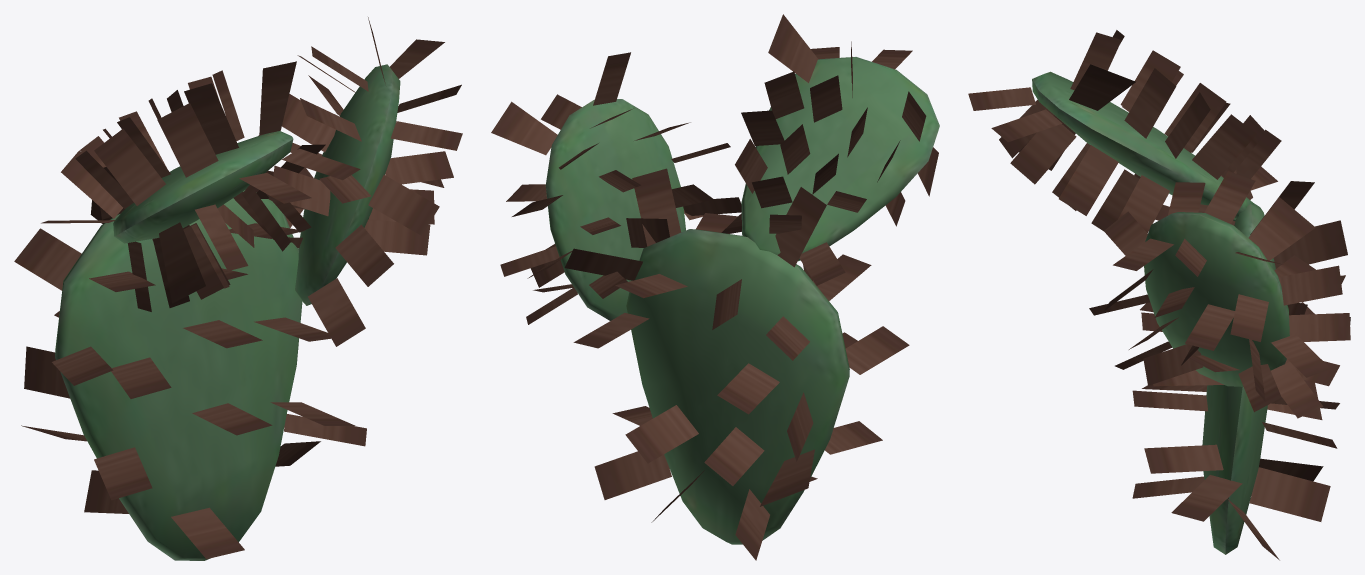
File: Canyon_Cactus_Flat_1.glb
The picture shows the model from 3 angles, left to right: view 1: azimuth 30°, elevation 25°; view 2: azimuth 150°, elevation 25°; view 3: azimuth 270°, elevation 25°; orthographic projection. The views are drawn at different scales.
Visible parts, largest first — view 1: Canyon_Cactus_Flat_1_0; view 2: Canyon_Cactus_Flat_1_0; view 3: Canyon_Cactus_Flat_1_0.
Boxes of the visible parts, <box> form: Canyon_Cactus_Flat_1_0: <box>14,17,462,560</box>; Canyon_Cactus_Flat_1_0: <box>491,14,939,560</box>; Canyon_Cactus_Flat_1_0: <box>968,30,1350,560</box>.
Bounding box in the file's own units: 0.8356 × 1.06 × 0.7456.
Materials: 1 (1 with a texture image).
